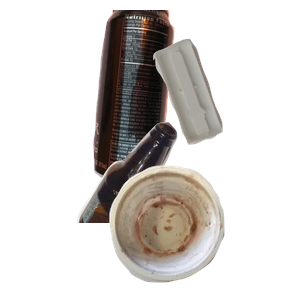glass: (74, 120, 244, 300)
metal: (91, 10, 258, 188)
plastic: (150, 36, 300, 173)
trash: (107, 163, 300, 300)
